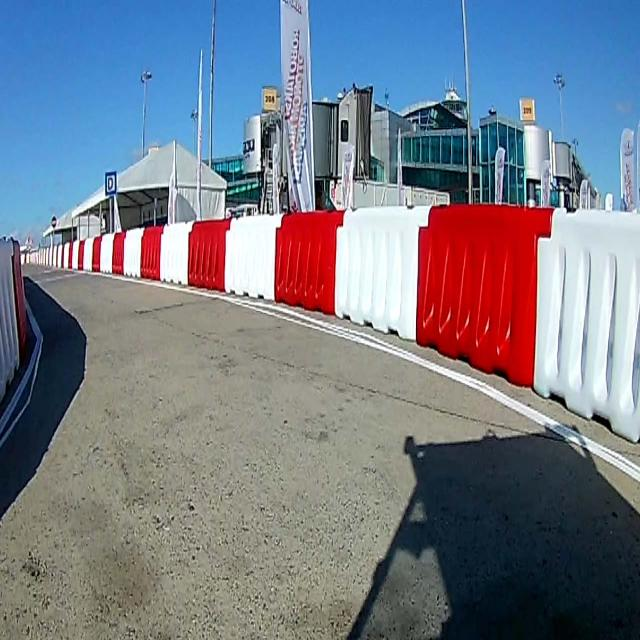durak: (106, 170, 116, 194)
